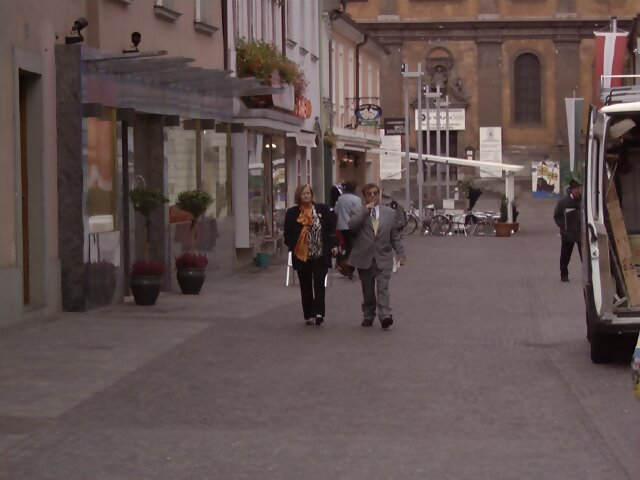person: (350, 181, 413, 342), (280, 179, 339, 340)
